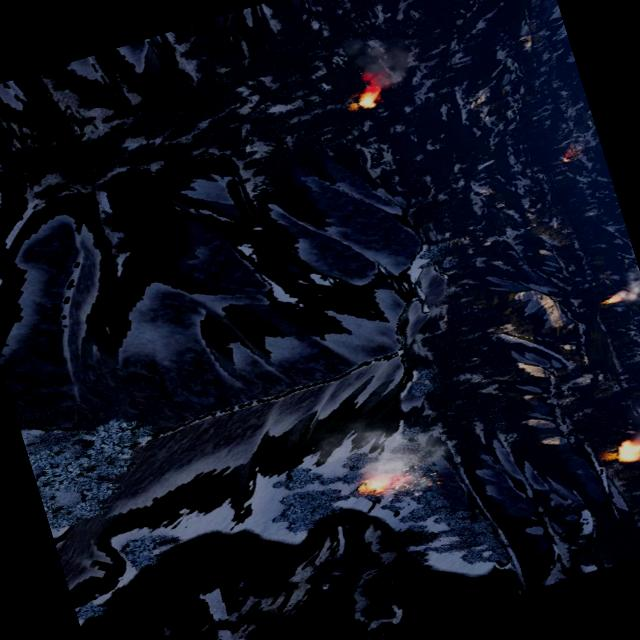fire: (356, 471, 394, 498), (611, 437, 640, 466), (349, 86, 382, 111), (556, 146, 580, 166), (598, 292, 624, 308)
smoke: (302, 392, 454, 507), (338, 22, 418, 96), (623, 393, 640, 473), (612, 260, 640, 307)
